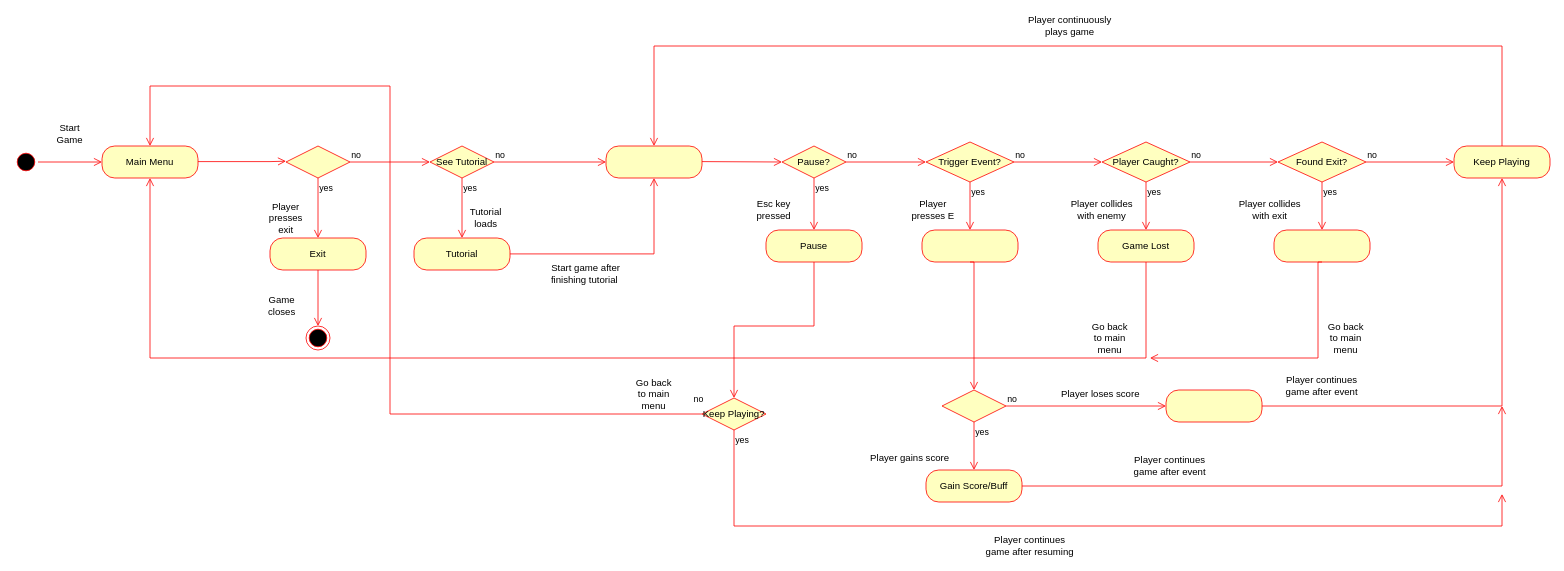
Image size: 1564x571. Some labels were removed from this diagram. Each missing label, with the centre of its shape:
"Event" goes at point (969, 245).
"Exit Game?" goes at point (317, 161).
"Game Won" goes at point (1321, 245).
"Penalty/Debuff" goes at point (1213, 405).
"Start Playing" goes at point (653, 161).
"Successful?" goes at point (973, 405).
